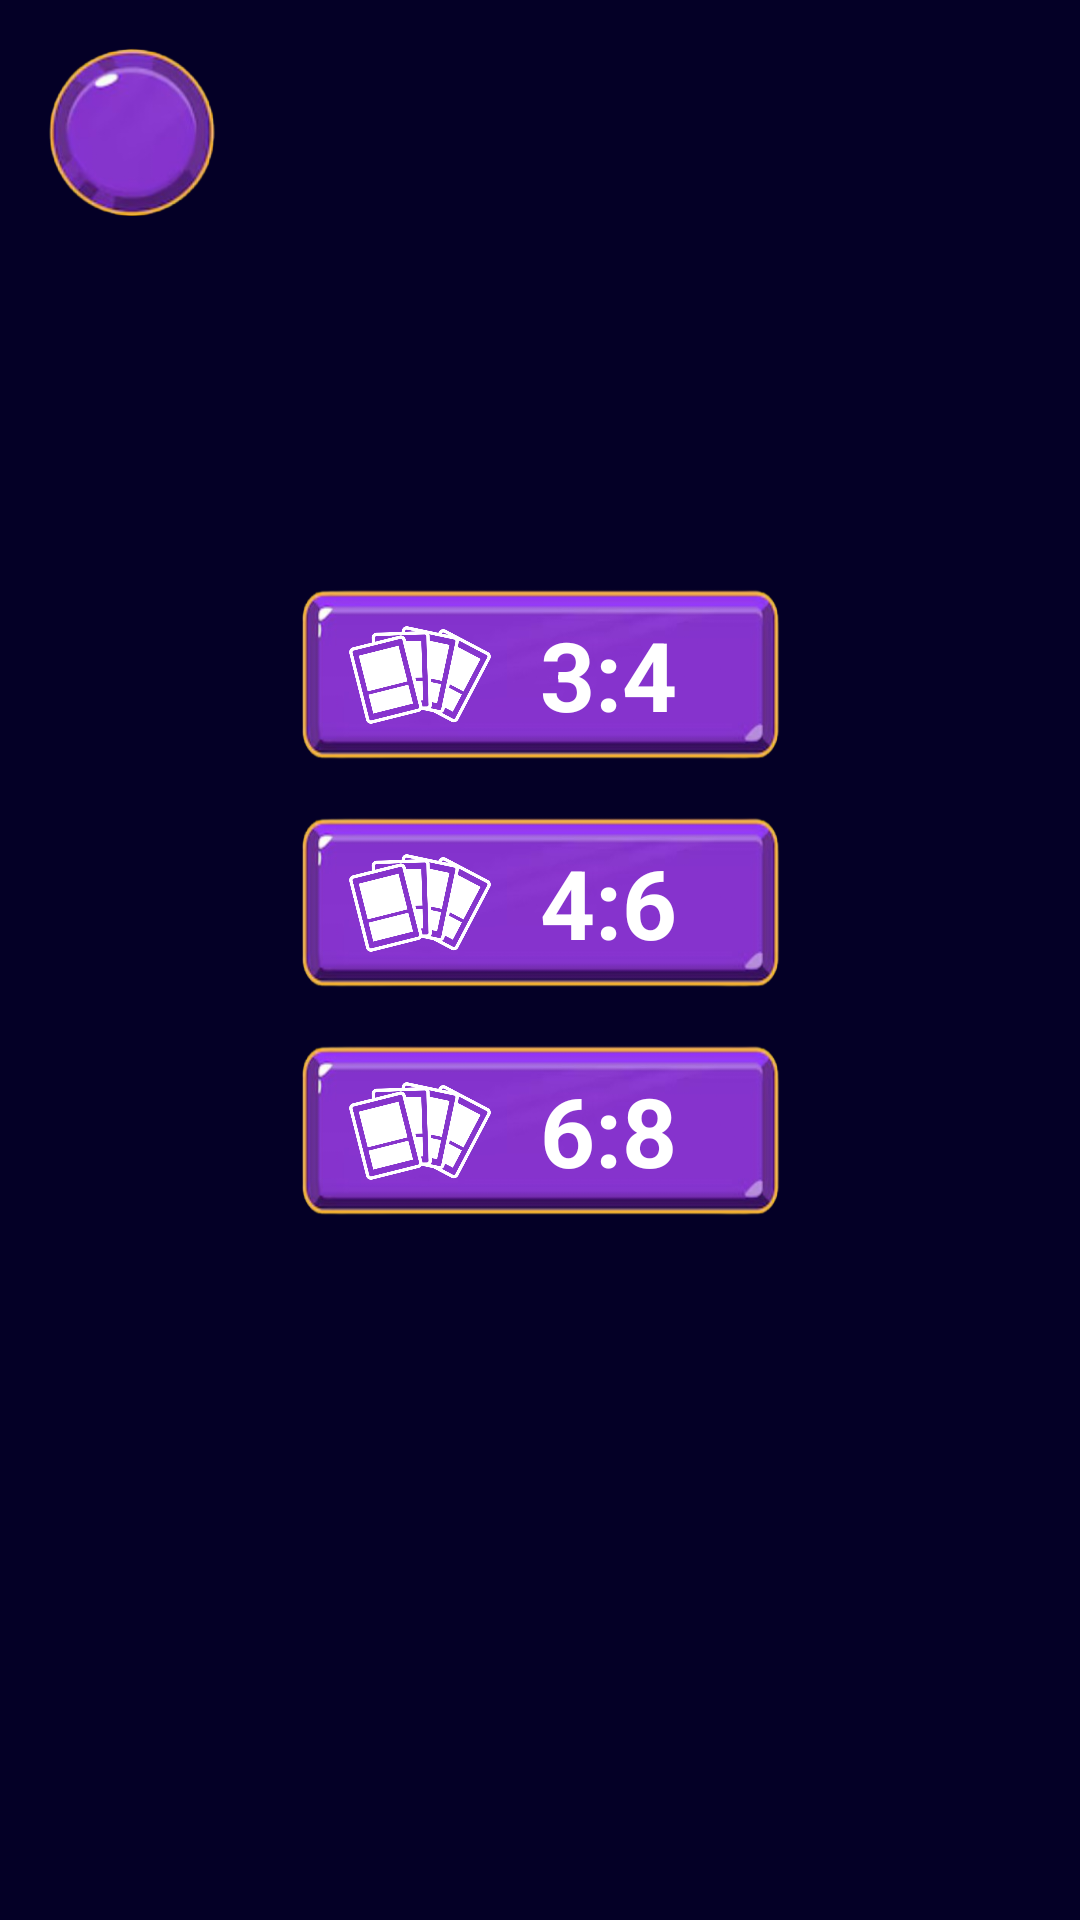

Where to tap for icons on this 1080 × 1920 app screen, as point (x, y):
card games: point (420, 675), point (420, 903), point (420, 1131)
